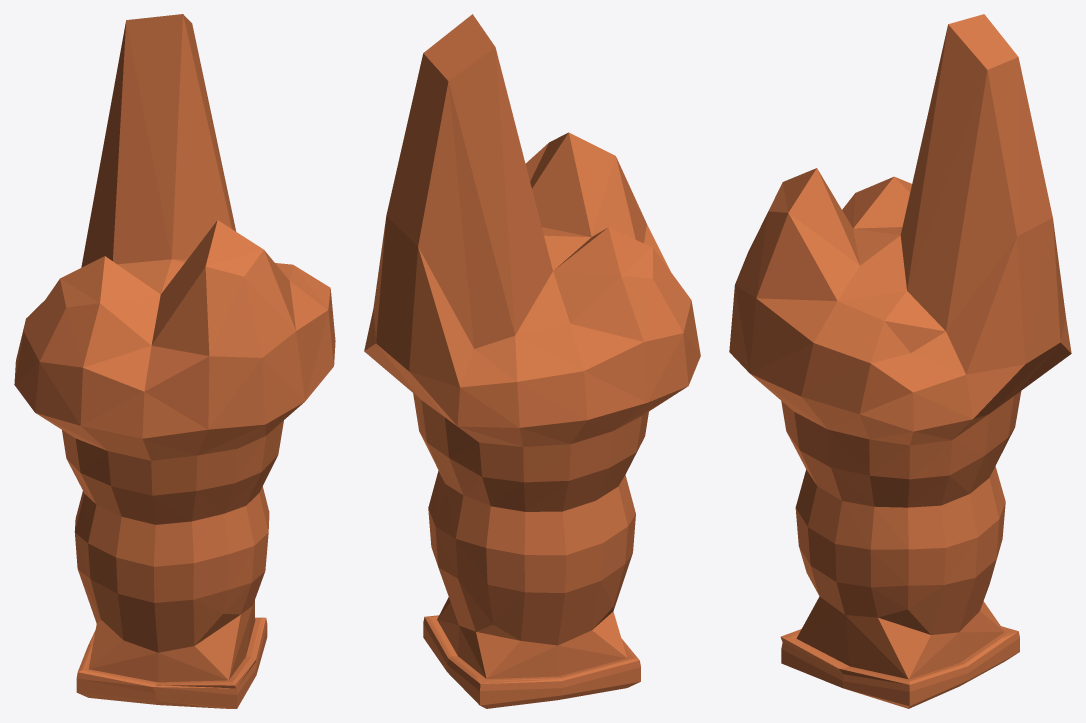
Rendered from Sandstone 5.fbx.
The picture shows the model from 3 angles, left to right: view 1: azimuth 30°, elevation 25°; view 2: azimuth 150°, elevation 25°; view 3: azimuth 270°, elevation 25°; orthographic projection. The views are drawn at different scales.
Visible parts, largest first — view 1: Sandstone Size 5; view 2: Sandstone Size 5; view 3: Sandstone Size 5.
Part boxes in pixels (bbox=[...]): Sandstone Size 5: bbox=[14, 14, 335, 708]; Sandstone Size 5: bbox=[364, 14, 700, 708]; Sandstone Size 5: bbox=[729, 14, 1071, 708].
Size of the model in its own units: 638 by 1344 by 634.
